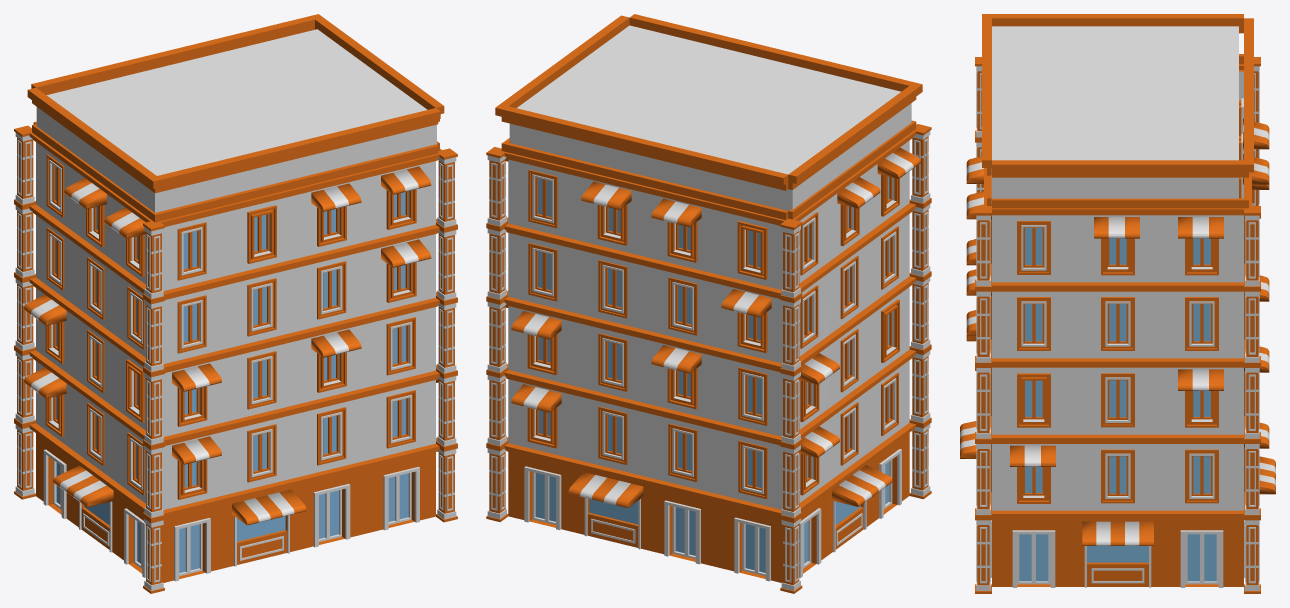
File: Building_4.fbx
3 renders of one model, left to right at view 1: azimuth 30°, elevation 25°; view 2: azimuth 150°, elevation 25°; view 3: azimuth 270°, elevation 25°, orthographic. The views are drawn at different scales.
Parts seen in each view (by area): view 1: Home-5; view 2: Home-5; view 3: Home-5.
Boxes of the visible parts, left/top/right/bottom form: Home-5: left=14, top=14, right=457, bottom=593; Home-5: left=486, top=14, right=931, bottom=593; Home-5: left=960, top=14, right=1275, bottom=593.
Size of the model in its own units: 2380 by 2800 by 1880.
